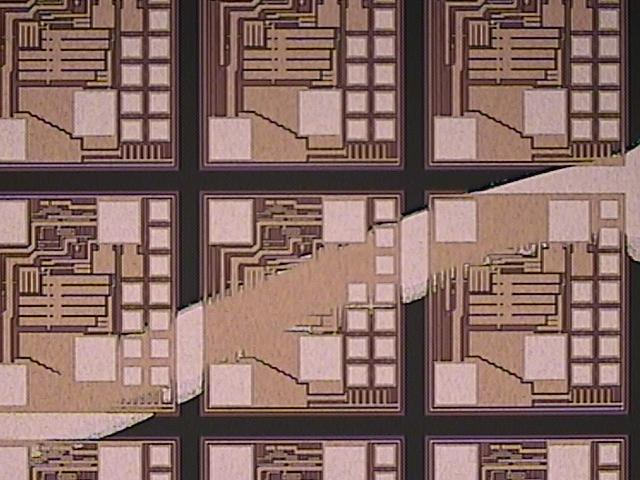BLOCK ETCH: (1, 134, 640, 480)
